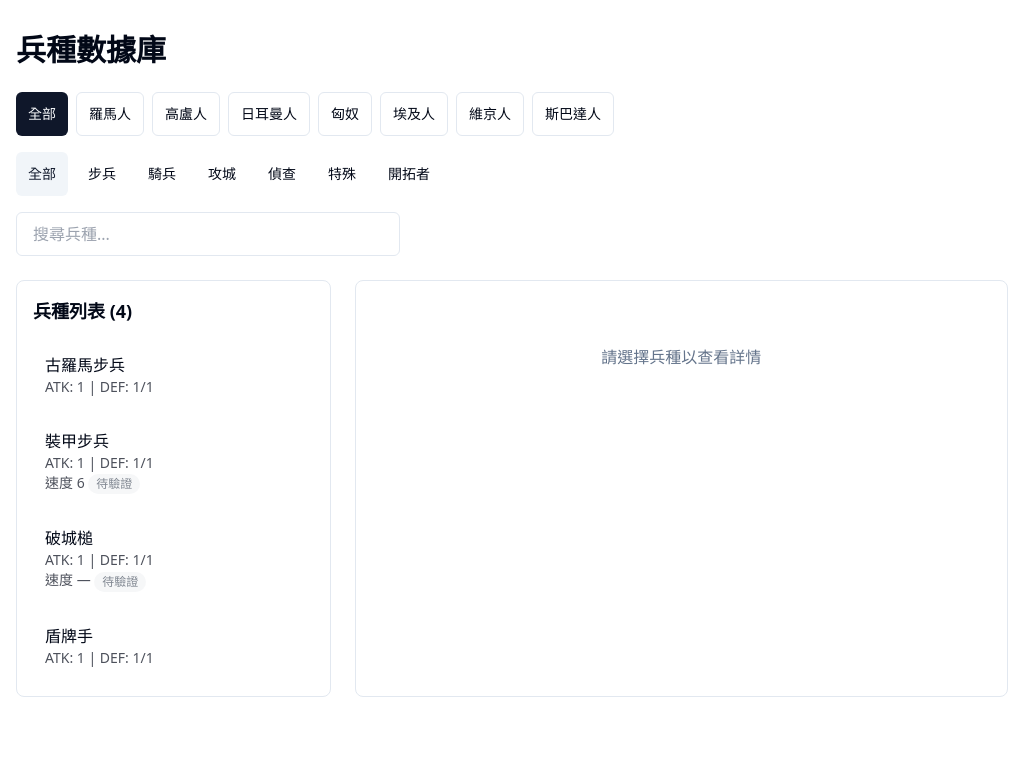
it: TroopsPage speed 待驗證 chips (P0-15) › detail, ts11: plain number, no chip
Click the text "古羅馬步兵" at [85, 365], box [45,354,125,376]
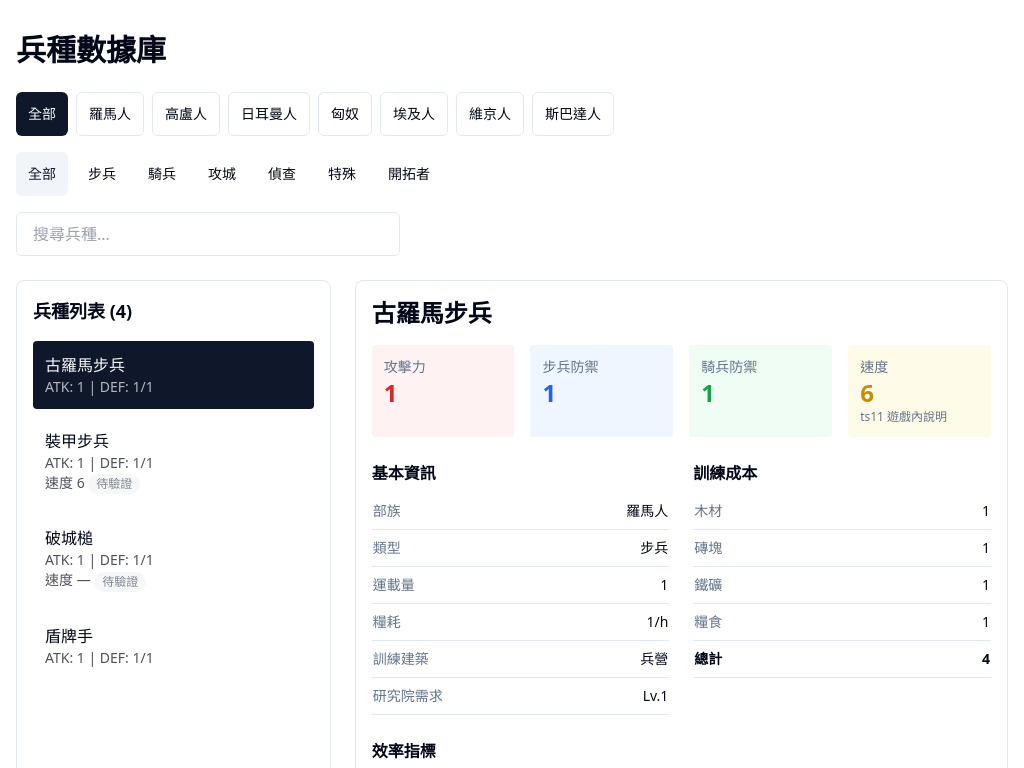
Expected: the text with test id "troop-speed-source" reads "ts11 遊戲內說明", [860,408,947,425]
